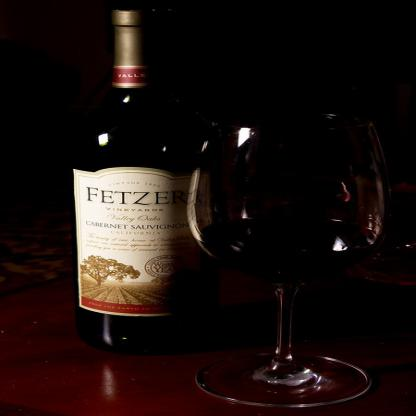drinking: (190, 113, 384, 409), (73, 6, 215, 356)
